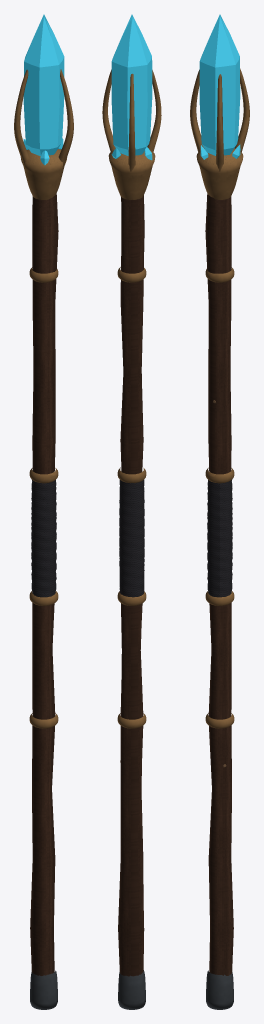
Rendered from crystal-staff.lod1.glb.
3 views of the same model, side by side, from view 1: azimuth 90°, elevation 25°; view 2: azimuth 150°, elevation 25°; view 3: azimuth 270°, elevation 25° (orthographic).
Parts seen in each view (by area): view 1: wood / oiled hardwood, crystal / faceted crystal, bronze / cast bronze with patina, cord / waxed silk cord wrap, darksteel / oil-blackened fittings; view 2: wood / oiled hardwood, crystal / faceted crystal, bronze / cast bronze with patina, cord / waxed silk cord wrap, darksteel / oil-blackened fittings; view 3: wood / oiled hardwood, crystal / faceted crystal, bronze / cast bronze with patina, cord / waxed silk cord wrap, darksteel / oil-blackened fittings.
Part boxes in pixels (x1=…): wood / oiled hardwood: x1=30, y1=193, x2=58, y2=975; crystal / faceted crystal: x1=23, y1=14, x2=64, y2=165; bronze / cast bronze with patina: x1=14, y1=69, x2=73, y2=728; cord / waxed silk cord wrap: x1=31, y1=479, x2=56, y2=597; darksteel / oil-blackened fittings: x1=30, y1=970, x2=57, y2=1009; wood / oiled hardwood: x1=118, y1=195, x2=144, y2=976; crystal / faceted crystal: x1=111, y1=14, x2=152, y2=160; bronze / cast bronze with patina: x1=102, y1=69, x2=161, y2=728; cord / waxed silk cord wrap: x1=119, y1=479, x2=144, y2=597; darksteel / oil-blackened fittings: x1=118, y1=970, x2=145, y2=1009; wood / oiled hardwood: x1=205, y1=193, x2=233, y2=975; crystal / faceted crystal: x1=199, y1=14, x2=240, y2=159; bronze / cast bronze with patina: x1=190, y1=68, x2=249, y2=728; cord / waxed silk cord wrap: x1=207, y1=479, x2=232, y2=597; darksteel / oil-blackened fittings: x1=206, y1=970, x2=233, y2=1009.
Bounding box in the file's own units: 0.0934 × 1.78 × 0.0974.
Materials: 7 (4 with a texture image).
